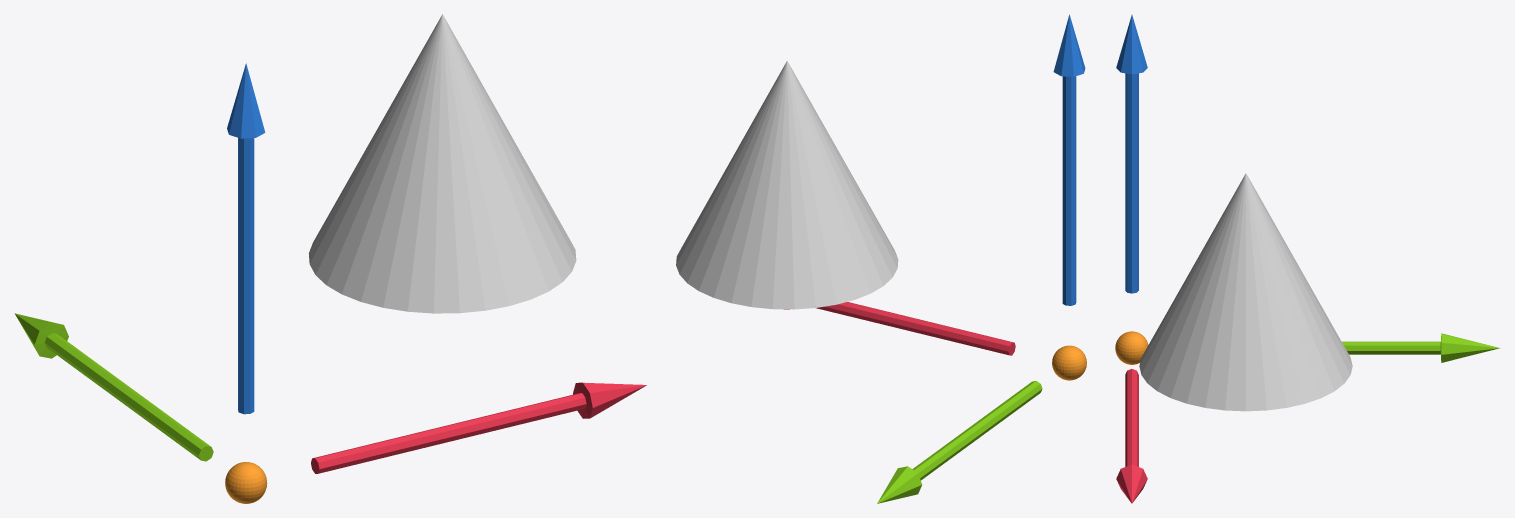
Rendered from TransformGizmo.dae.
The picture shows the model from 3 angles, left to right: view 1: azimuth 30°, elevation 25°; view 2: azimuth 150°, elevation 25°; view 3: azimuth 270°, elevation 25°; orthographic projection. The views are drawn at different scales.
Visible parts, largest first — view 1: Cone, z, x, y, pivot; view 2: Cone, z, y, x, pivot; view 3: Cone, z, y, x, pivot.
Part boxes in pixels (<box>): Cone: <box>308,14,576,313</box>; z: <box>227,63,265,414</box>; x: <box>311,382,646,473</box>; y: <box>14,313,213,461</box>; pivot: <box>225,462,267,503</box>; Cone: <box>676,61,898,309</box>; z: <box>1053,14,1085,305</box>; y: <box>877,381,1042,503</box>; x: <box>784,302,1015,355</box>; pivot: <box>1052,345,1086,380</box>; Cone: <box>1139,173,1352,411</box>; z: <box>1116,14,1147,293</box>; y: <box>1342,333,1500,362</box>; x: <box>1116,369,1147,503</box>; pivot: <box>1115,331,1148,364</box>.
Bounding box in the file's own units: 1.13 × 1.13 × 1.13.
